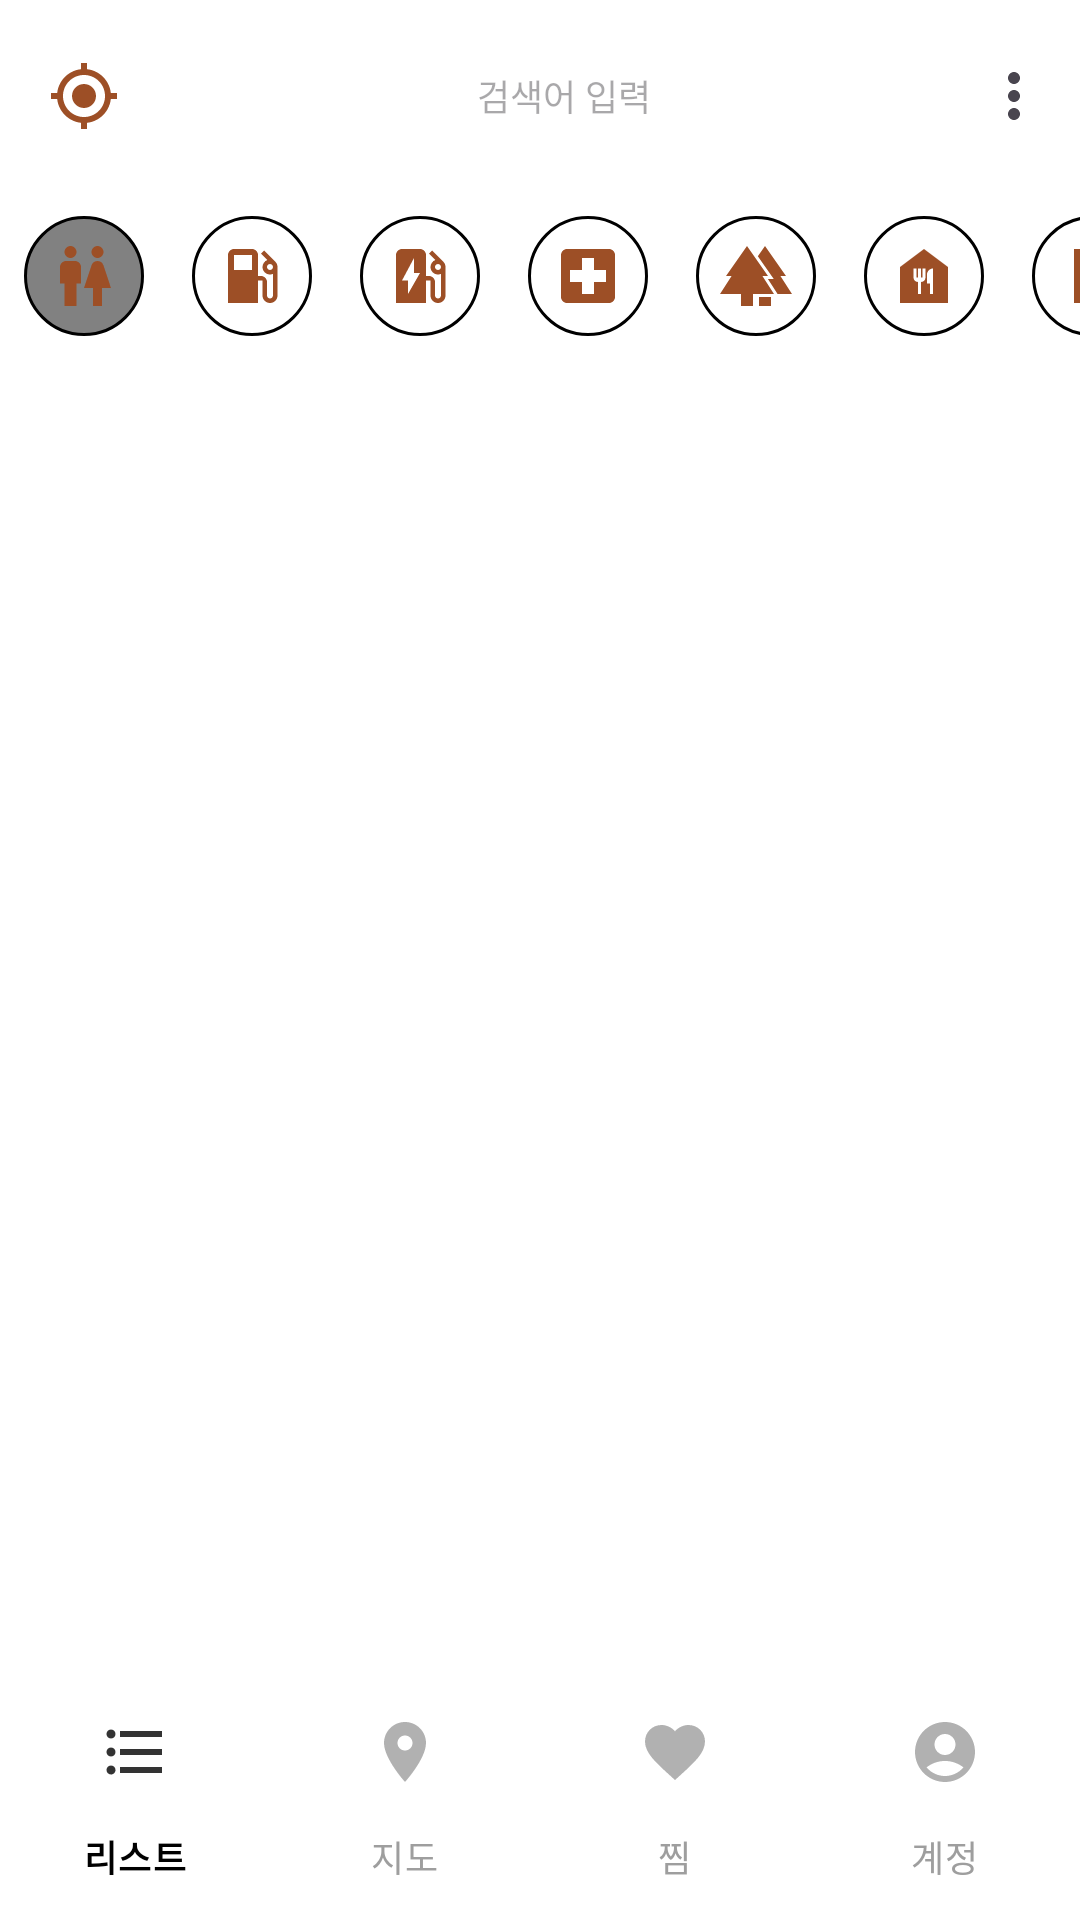

Icons on this 1080px×1920px Android screen, each with its box as detection(x1, y1, x2, y2):
ev station: detection(360, 216, 480, 336)
food bank: detection(864, 216, 984, 336)
forest: detection(696, 216, 816, 336)
local gas station: detection(192, 216, 312, 336)
local hospital: detection(528, 216, 648, 336)
